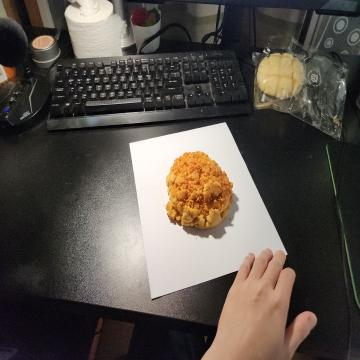soboru_bread: (164, 151, 230, 231)
